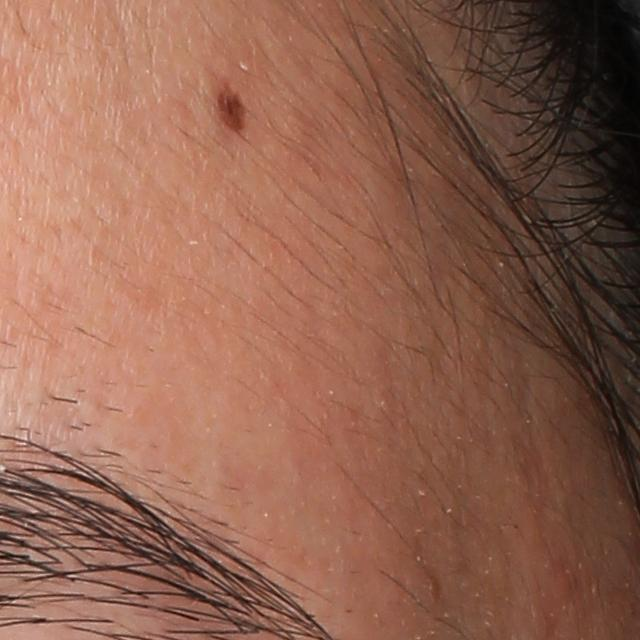nevus: (210, 81, 248, 132)
